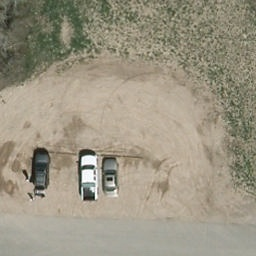car: (100, 157, 120, 199), (33, 152, 51, 190)
pickup: (78, 154, 101, 204)
